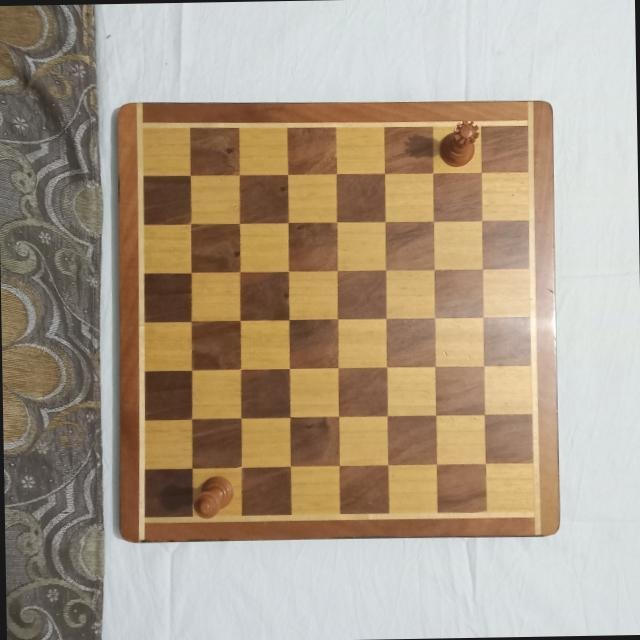white-king: (191, 473, 233, 520)
white-queen: (437, 116, 481, 167)
